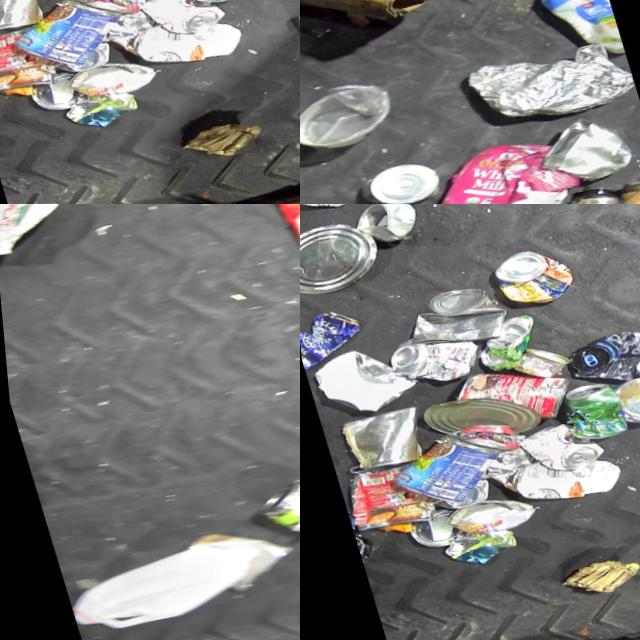can: (371, 423, 505, 515), (440, 355, 572, 439), (0, 0, 126, 77), (526, 109, 640, 194), (391, 280, 508, 357), (410, 384, 536, 453), (330, 459, 428, 536), (300, 213, 383, 301), (376, 326, 480, 393), (329, 405, 425, 475), (335, 148, 454, 204), (555, 319, 640, 393), (482, 243, 573, 312), (505, 416, 600, 479), (52, 53, 152, 104), (431, 490, 531, 541), (548, 378, 622, 444), (245, 470, 300, 554), (462, 314, 539, 374), (300, 304, 364, 369), (126, 0, 220, 42), (0, 21, 48, 99), (343, 204, 416, 249), (501, 340, 566, 386), (15, 70, 74, 116), (394, 507, 453, 553), (604, 366, 640, 428), (43, 41, 106, 76), (422, 478, 485, 513), (31, 0, 156, 15), (0, 0, 45, 38), (590, 173, 640, 204)
milk_jug: (47, 531, 266, 640)
